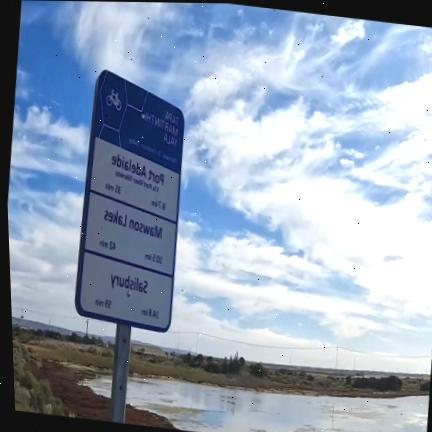Bike_Sign: (75, 70, 185, 349)
